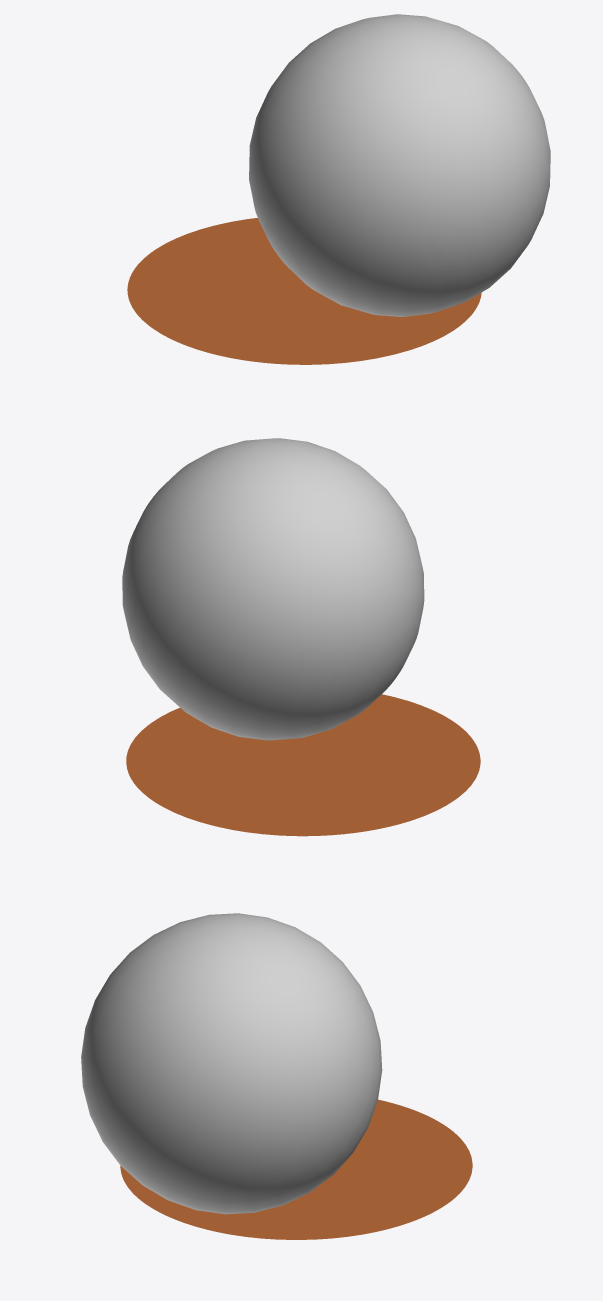
Rendered from 宝宝巴士-主框架-推送地图-游园会-球2.FBX.
The picture shows the model from 3 angles, top to bottom: view 1: azimuth 30°, elevation 25°; view 2: azimuth 150°, elevation 25°; view 3: azimuth 270°, elevation 25°; orthographic projection.
Visible parts, largest first — view 1: 宝宝巴士-主框架-推送地图-游园会-球2; view 2: 宝宝巴士-主框架-推送地图-游园会-球2; view 3: 宝宝巴士-主框架-推送地图-游园会-球2.
Part boxes in pixels (<box>): 宝宝巴士-主框架-推送地图-游园会-球2: <box>127,14,550,364</box>; 宝宝巴士-主框架-推送地图-游园会-球2: <box>122,438,480,836</box>; 宝宝巴士-主框架-推送地图-游园会-球2: <box>81,913,472,1239</box>.
Bounding box in the file's own units: 151 × 79.04 × 151.
